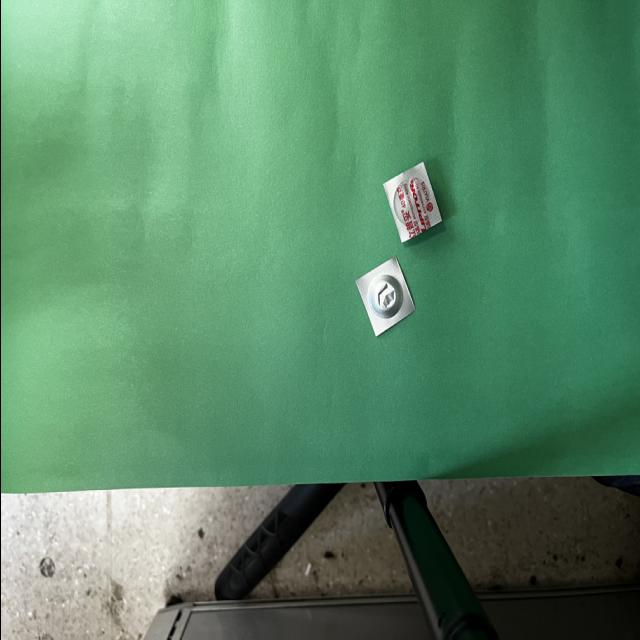Other Objects: (355, 257, 414, 337), (383, 163, 440, 242)
